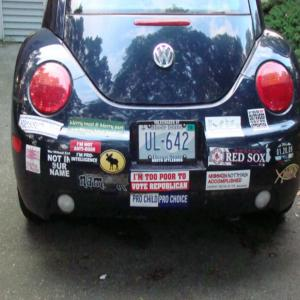Vehicle-registration-plate: (137, 119, 201, 167)
